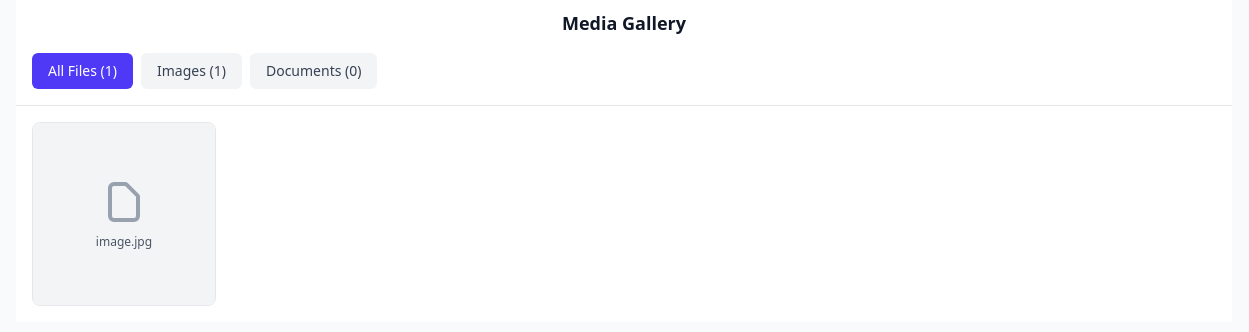
Test: MediaGallery Component › Type filtering › should show empty state when filter has no matching files
Click the tab "Documents (0)" at (314, 71), box x1=250 y1=53 x2=377 y2=89
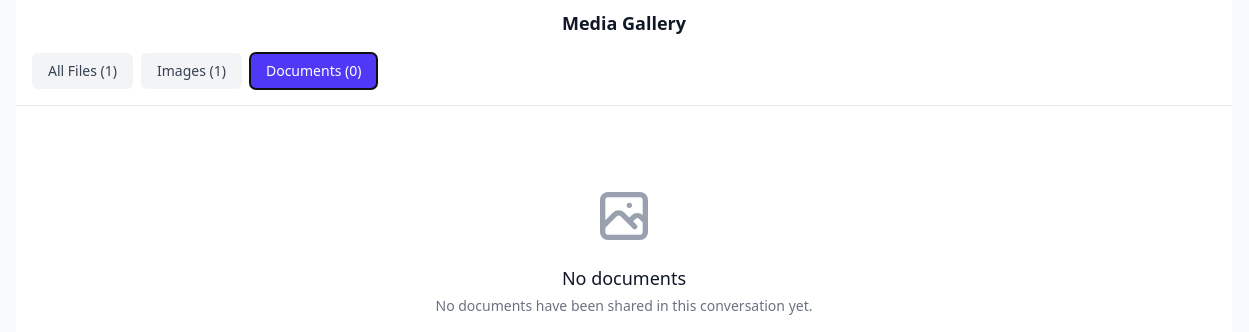
expect the heading "No documents" is shown: met, box x1=562 y1=264 x2=686 y2=292
